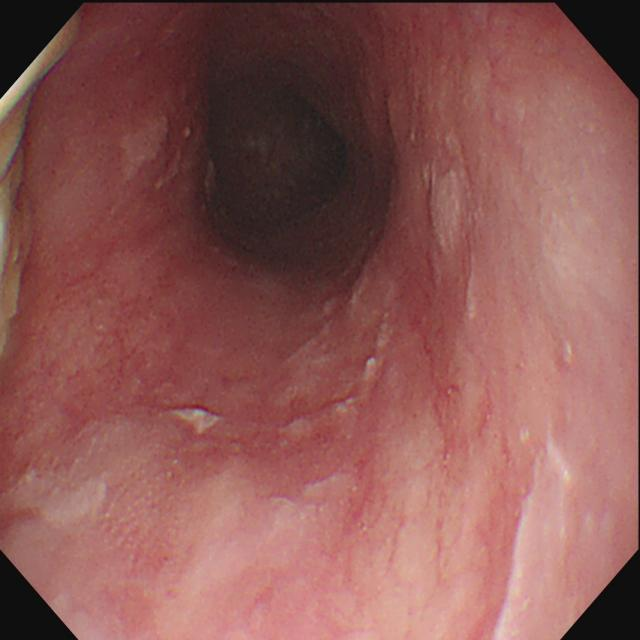E: (215, 83, 345, 218)
J: (494, 440, 570, 640), (422, 159, 475, 286), (121, 115, 192, 190), (171, 408, 226, 436)
